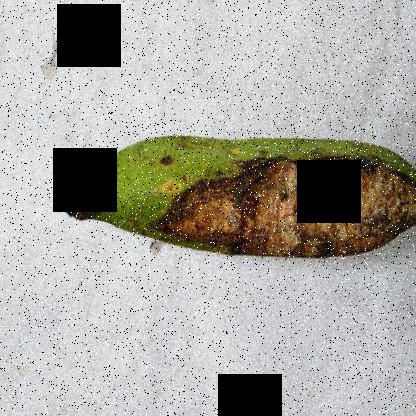rotten: (144, 132, 415, 273)
